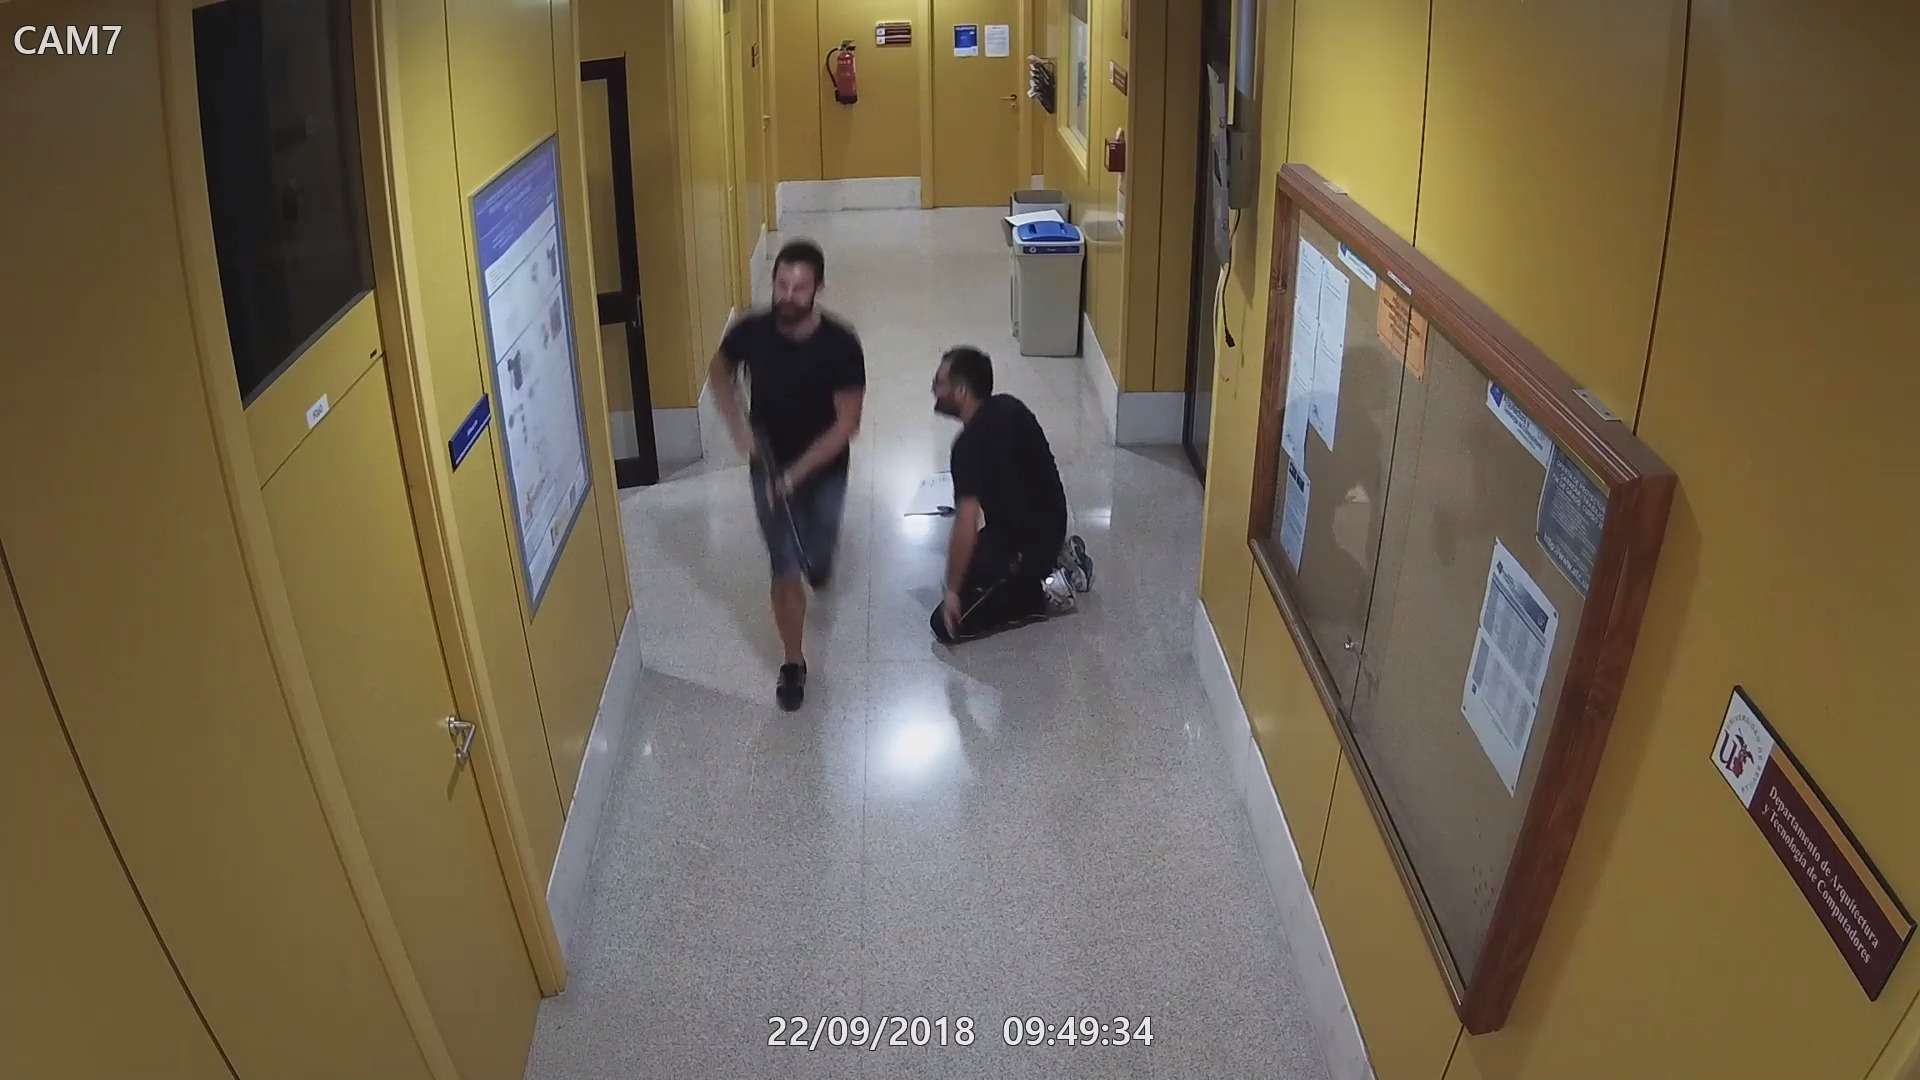rifle: (727, 364, 814, 583)
